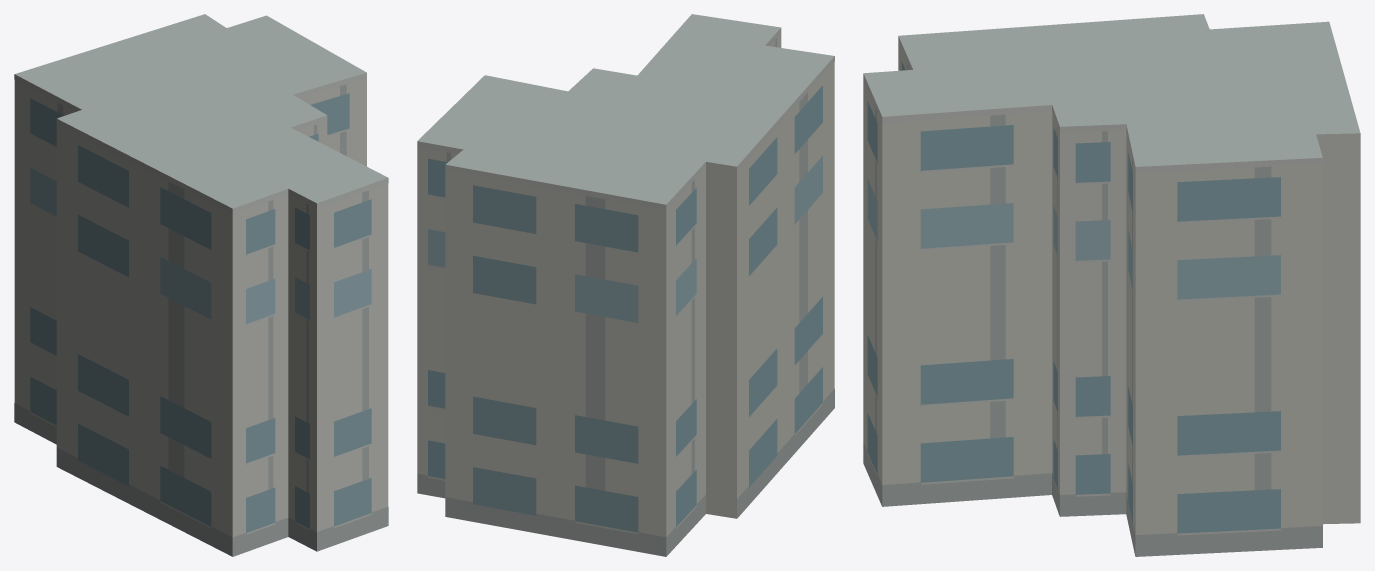
File: survey-upis-32818900.glb
3 views of the same model, side by side, from view 1: azimuth 30°, elevation 25°; view 2: azimuth 150°, elevation 25°; view 3: azimuth 270°, elevation 25° (orthographic). The views are drawn at different scales.
Parts seen in each view (by area): view 1: survey-upis-32818900.tmp; view 2: survey-upis-32818900.tmp; view 3: survey-upis-32818900.tmp.
Boxes of the visible parts, box(x1,y1,x2,y2) form: survey-upis-32818900.tmp: box(14, 14, 388, 556); survey-upis-32818900.tmp: box(417, 14, 834, 556); survey-upis-32818900.tmp: box(863, 14, 1360, 556).
Bounding box in the file's own units: 12.62 × 15 × 17.35.
